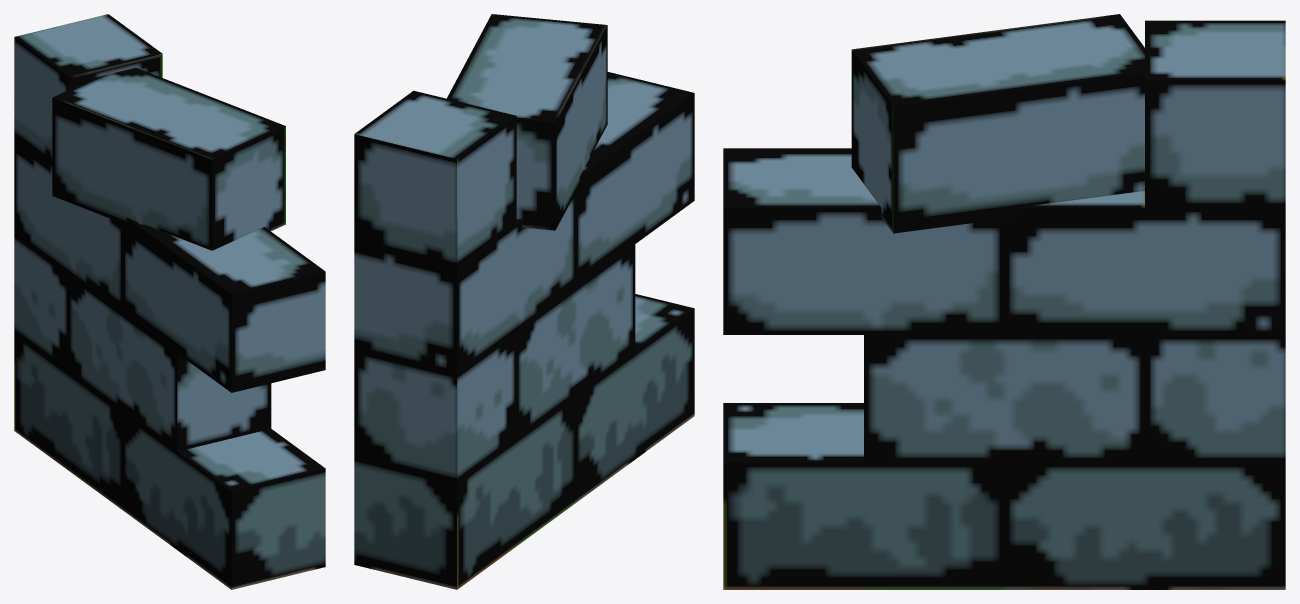
File: deco_wallBroken_D.FBX
3 renders of one model, left to right at view 1: azimuth 30°, elevation 25°; view 2: azimuth 150°, elevation 25°; view 3: azimuth 270°, elevation 25°, orthographic. The views are drawn at different scales.
Visible parts, largest first — view 1: deco_wallBroken_D; view 2: deco_wallBroken_D; view 3: deco_wallBroken_D.
Part boxes in pixels (left/top/right/bottom): deco_wallBroken_D: left=14, top=14, right=325, bottom=589; deco_wallBroken_D: left=354, top=14, right=694, bottom=589; deco_wallBroken_D: left=723, top=14, right=1285, bottom=589.
Bounding box in the file's own units: 0.7752 × 2 × 2.
Materials: 1 (1 with a texture image).
